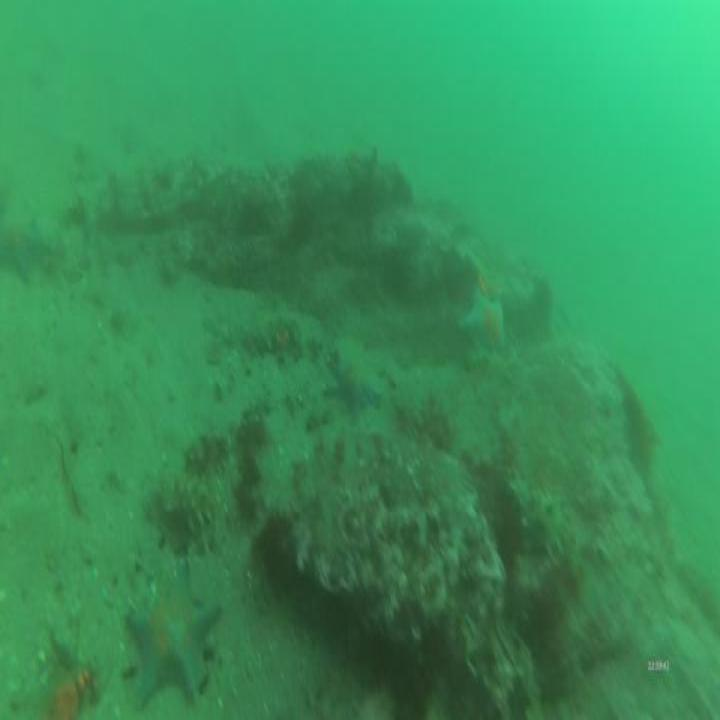holothurian: (145, 473, 223, 531), (505, 475, 563, 549), (244, 306, 303, 370)
starfish: (128, 558, 218, 706), (327, 361, 379, 423), (4, 214, 44, 284), (462, 292, 504, 356)
